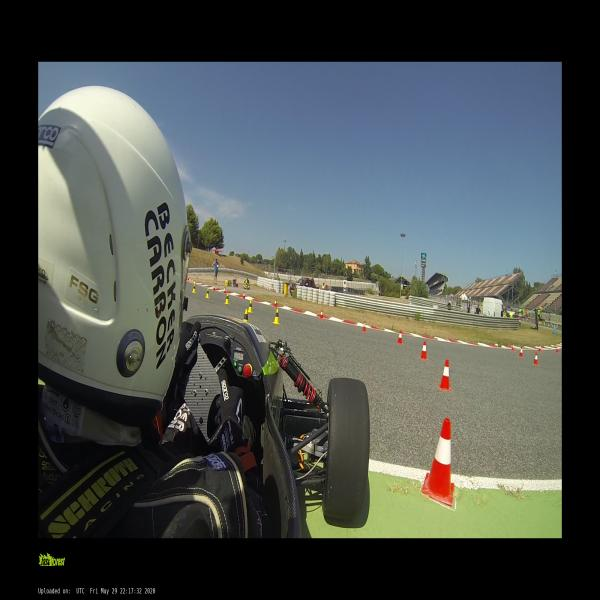orange_cone: (423, 417, 460, 505), (436, 359, 453, 392), (419, 341, 427, 360), (532, 352, 539, 366), (397, 330, 403, 344), (518, 347, 524, 358), (272, 298, 278, 308), (362, 320, 366, 333), (510, 343, 515, 352), (319, 310, 323, 319), (537, 345, 542, 352), (555, 346, 559, 354), (223, 287, 226, 294), (243, 291, 245, 300), (213, 284, 215, 291), (188, 274, 189, 280), (194, 280, 195, 286)
yellow_cone: (273, 308, 280, 324), (247, 300, 253, 313), (243, 309, 248, 322), (225, 294, 230, 305), (205, 289, 209, 298), (192, 284, 195, 293)
